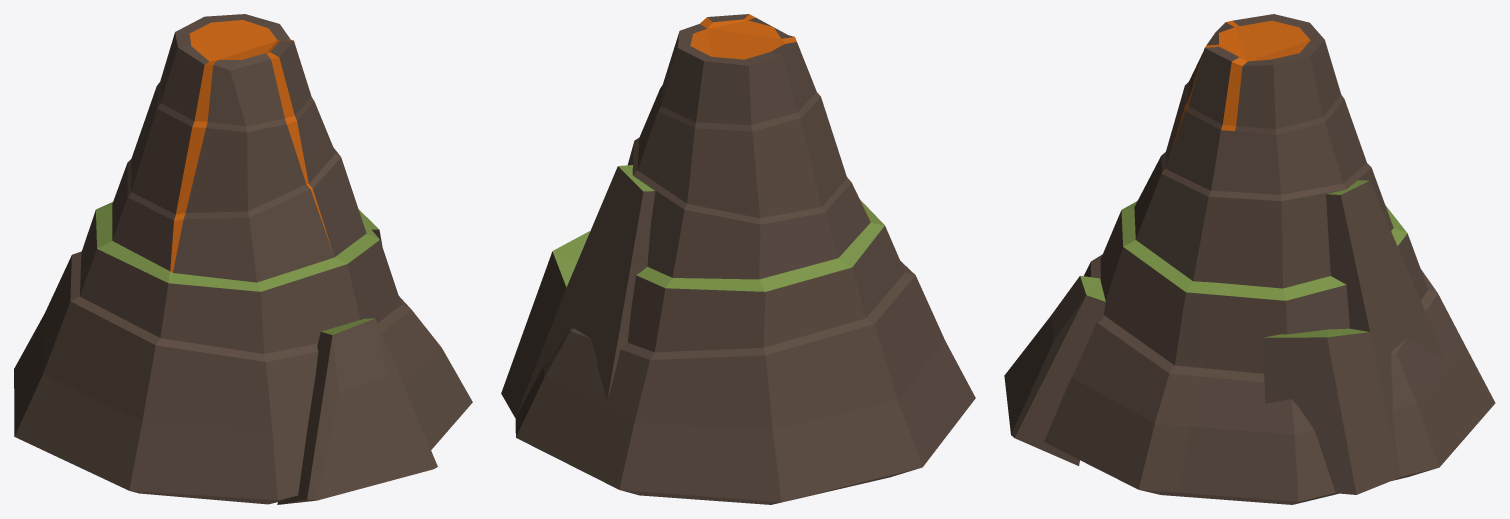
Rendered from vulcano01.fbx.
The picture shows the model from 3 angles, left to right: view 1: azimuth 30°, elevation 25°; view 2: azimuth 150°, elevation 25°; view 3: azimuth 270°, elevation 25°; orthographic projection.
Visible parts, largest first — view 1: vulcano_01; view 2: vulcano_01; view 3: vulcano_01.
Part boxes in pixels (x1,y1,x2,y2): vulcano_01: (14, 14, 472, 504); vulcano_01: (501, 14, 975, 504); vulcano_01: (1004, 14, 1495, 504).
Size of the model in its own units: 39.01 by 40.92 by 35.66.
